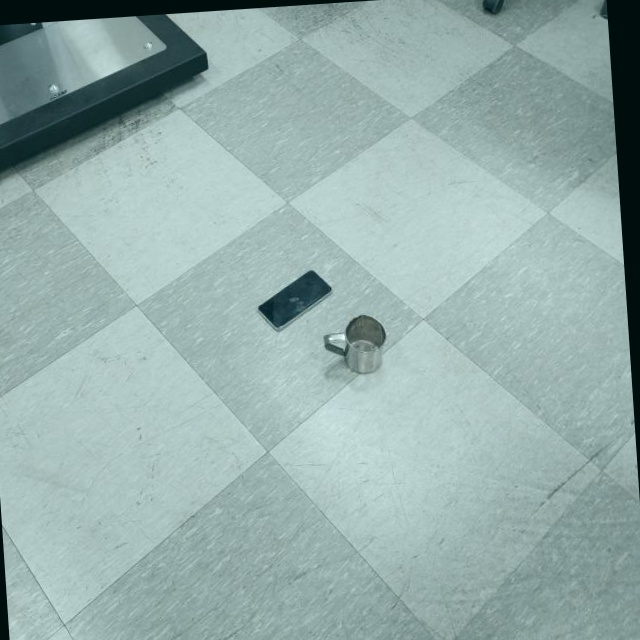cup: (322, 310, 391, 379)
phone: (251, 267, 336, 332)
